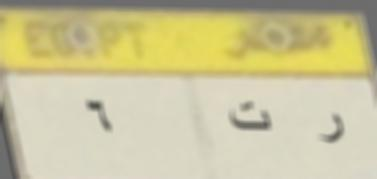6: (77, 92, 120, 134)
raa: (316, 110, 350, 148)
taa: (226, 97, 280, 138)
